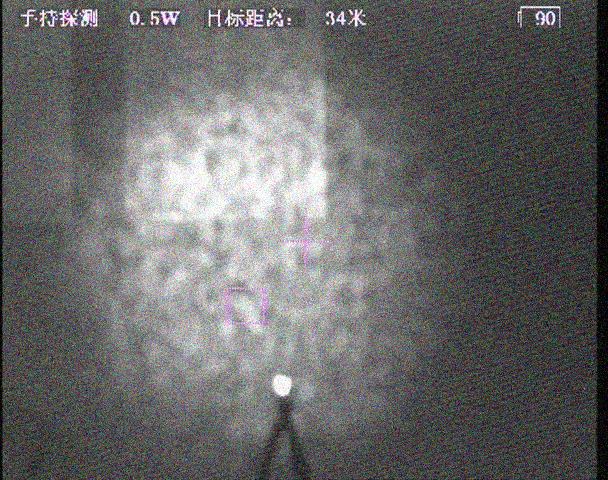my: (271, 373, 294, 399)
